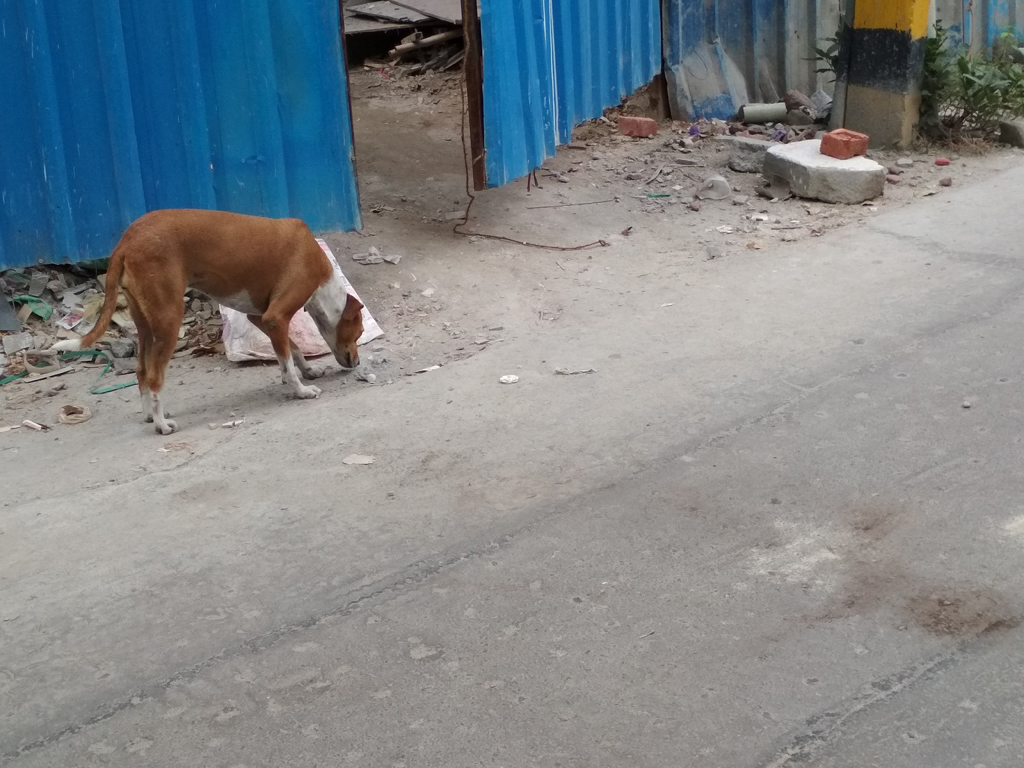dog: (55, 209, 365, 438)
